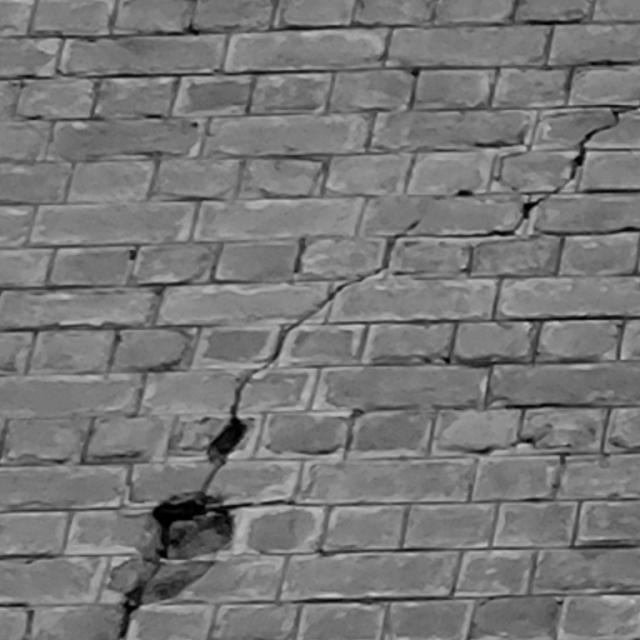crack: (116, 199, 435, 640), (480, 106, 640, 238)
